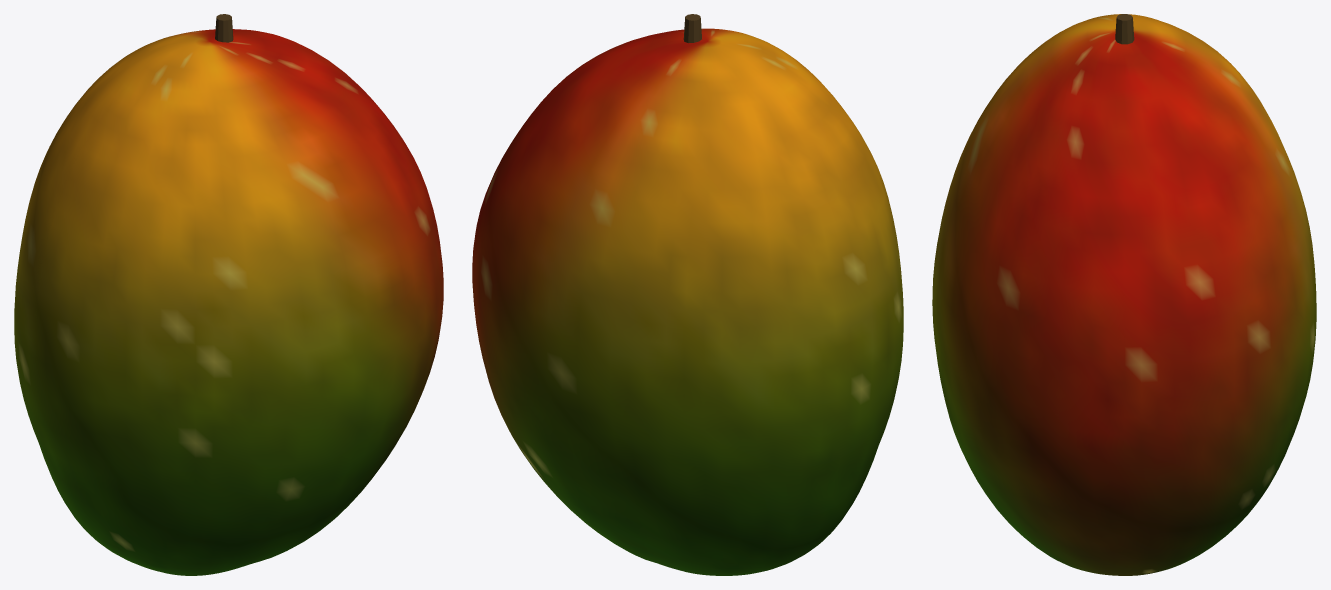
The model's file is mangue.glb.
3 views of the same model, side by side, from view 1: azimuth 30°, elevation 25°; view 2: azimuth 150°, elevation 25°; view 3: azimuth 270°, elevation 25° (orthographic).
Visible parts, largest first — view 1: entier_peau, moitie_B_peau, moitie_A_peau; view 2: entier_peau, moitie_A_peau, moitie_B_peau; view 3: entier_peau, moitie_B_peau, moitie_A_peau, entier_extra0.
Boxes of the visible parts, x1,y1,x2,y2 form: entier_peau: [14, 29, 443, 575]; moitie_B_peau: [36, 37, 443, 575]; moitie_A_peau: [15, 29, 302, 536]; entier_peau: [472, 28, 903, 575]; moitie_A_peau: [529, 38, 881, 575]; moitie_B_peau: [654, 29, 903, 530]; entier_peau: [932, 14, 1316, 575]; moitie_B_peau: [932, 15, 1124, 575]; moitie_A_peau: [1124, 15, 1313, 575]; entier_extra0: [1115, 14, 1134, 44].
Bounding box in the file's own units: 1.56 × 2.08 × 1.32.
